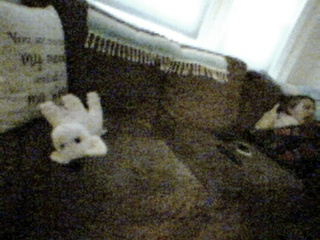piggy: (39, 90, 110, 166)
